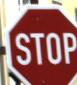Stop sign: (0, 0, 76, 84)
